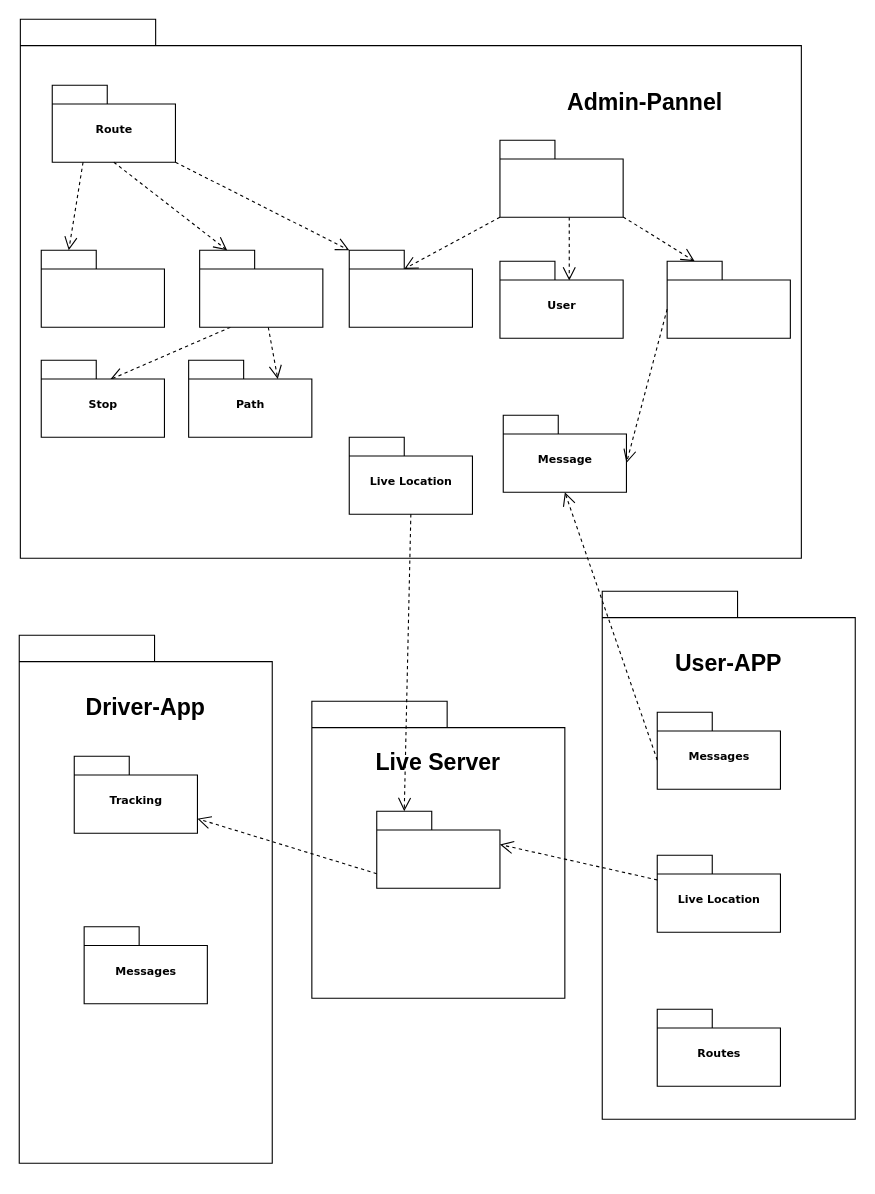
The diagram is 875 pixels wide and 1194 high, and some of its shapes have lost their labels. Each missing label, with the centre of its shape:
Accounts: [561,178]
Admin: [728,299]
Buses: [102,288]
Driver: [410,288]
Live Tracking: [438,849]
Tracks: [261,288]
